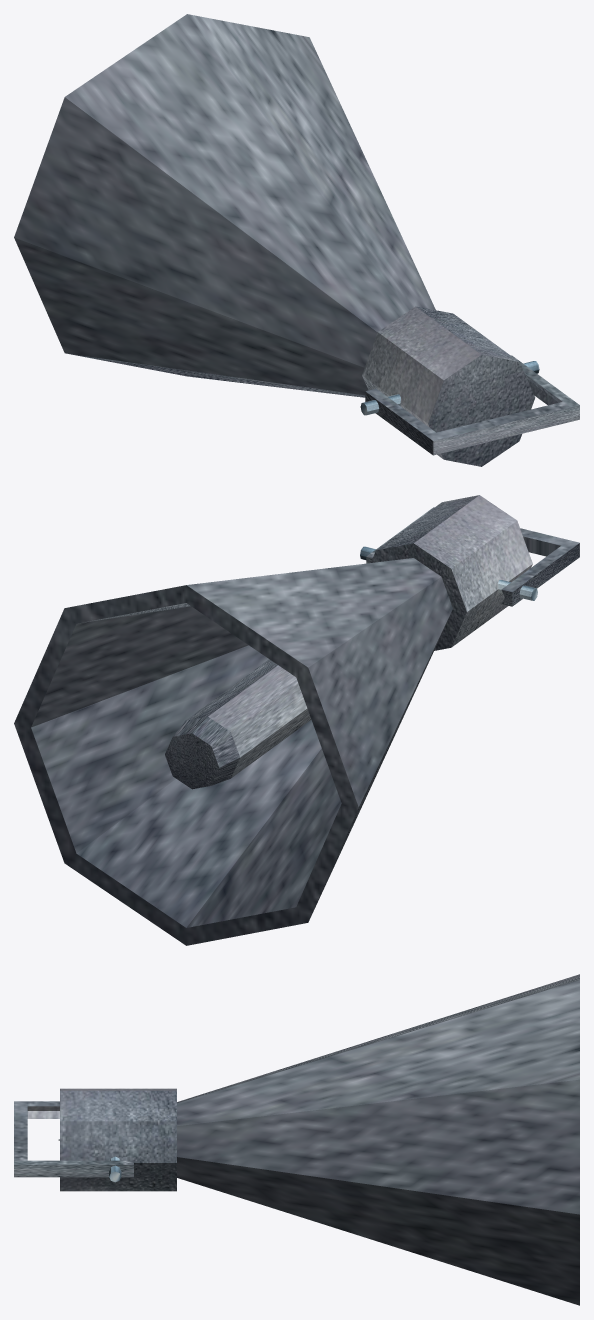
Rendered from megaphone-triangulated.obj.
3 views of the same model, one above another, from view 1: azimuth 30°, elevation 25°; view 2: azimuth 150°, elevation 25°; view 3: azimuth 270°, elevation 25° (orthographic). The views are drawn at different scales.
Parts seen in each view (by area): view 1: body.001_Cone.002; view 2: body.001_Cone.002; view 3: body.001_Cone.002.
Boxes of the visible parts, <box> form: body.001_Cone.002: <box>14,14,579,466</box>; body.001_Cone.002: <box>14,495,579,945</box>; body.001_Cone.002: <box>14,974,579,1305</box>.
Bounding box in the file's own units: 2.5 × 2.5 × 4.01.
